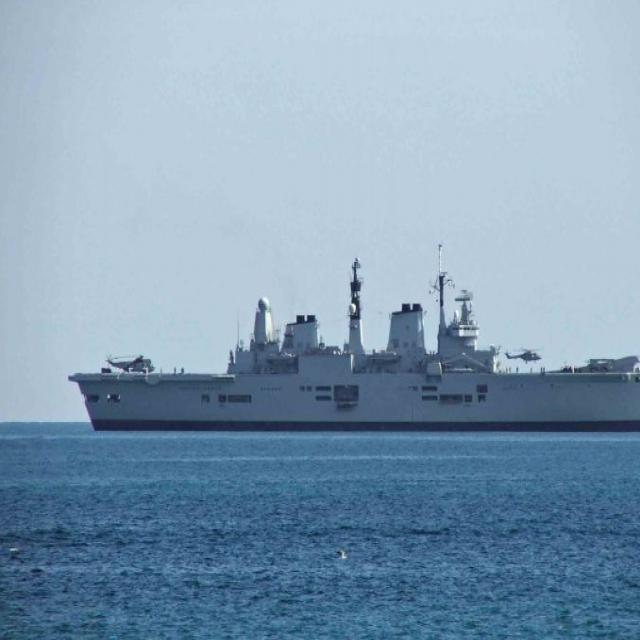Portanaves: (69, 234, 640, 436)
